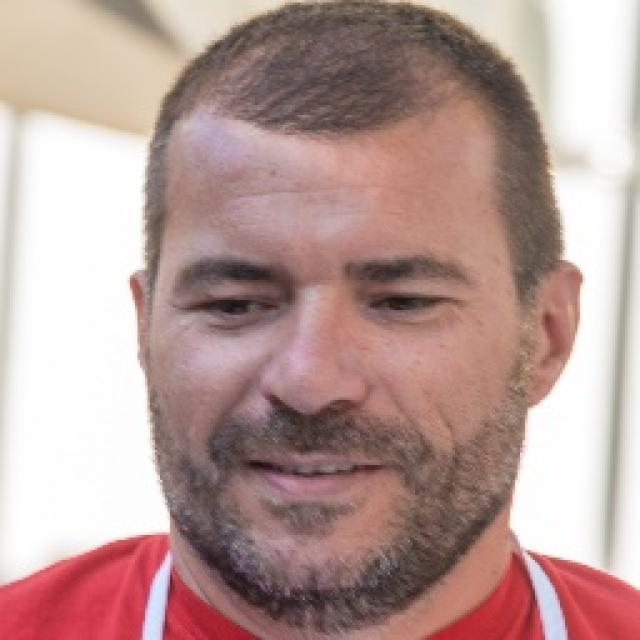earlobe: (523, 256, 585, 410), (126, 271, 153, 387)
